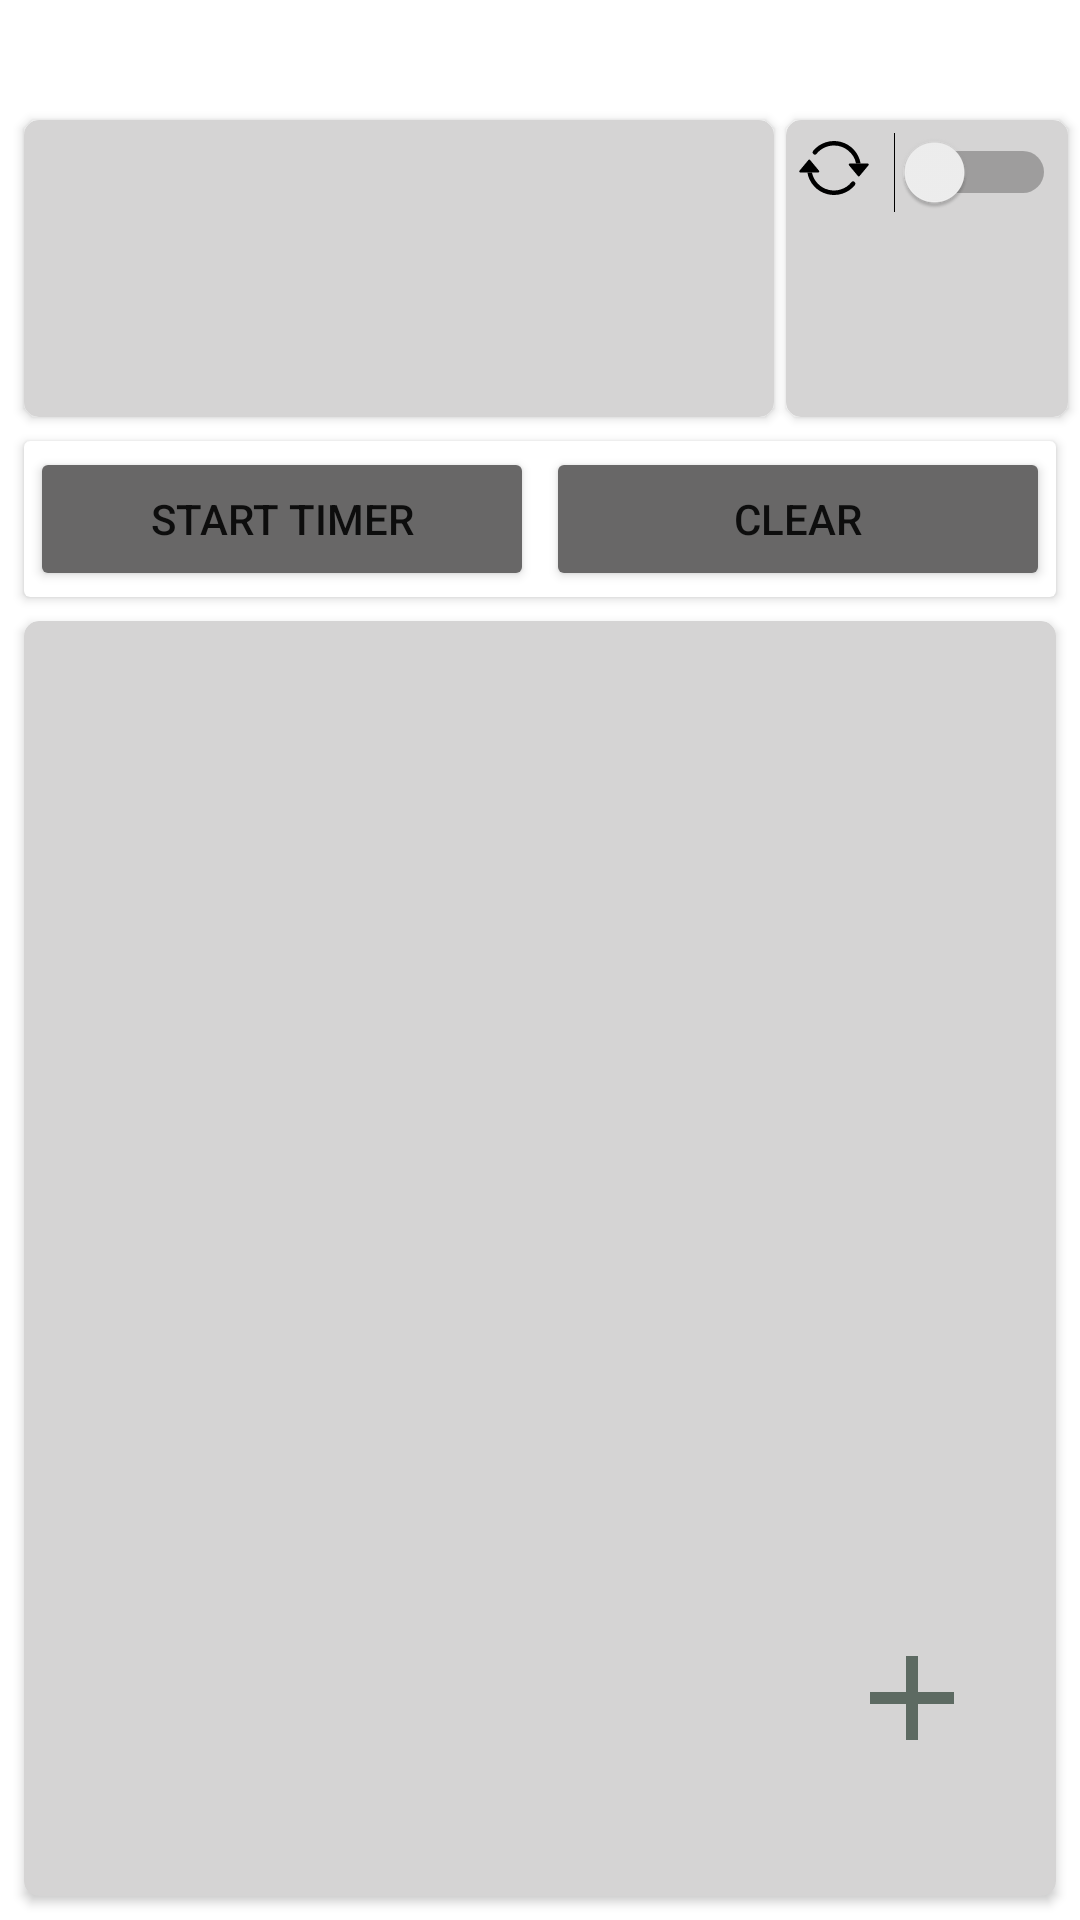

Where icons sit on this 1080*1920 app screen, as {"x1": x1, "y1": y1, "x2": x2, "y2": y2}:
add: {"x1": 870, "y1": 1656, "x2": 954, "y2": 1740}
arrow repeat: {"x1": 799, "y1": 141, "x2": 869, "y2": 195}
